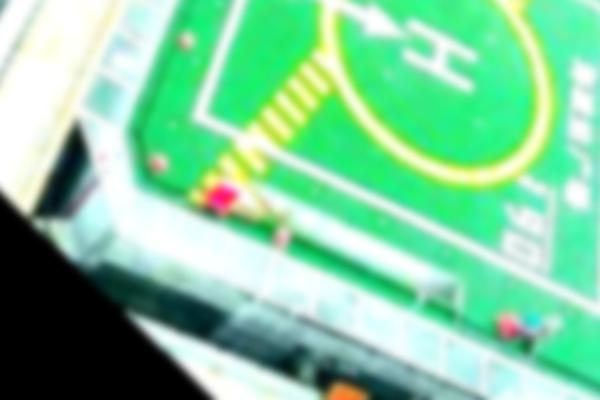Apron: (310, 1, 559, 197)
